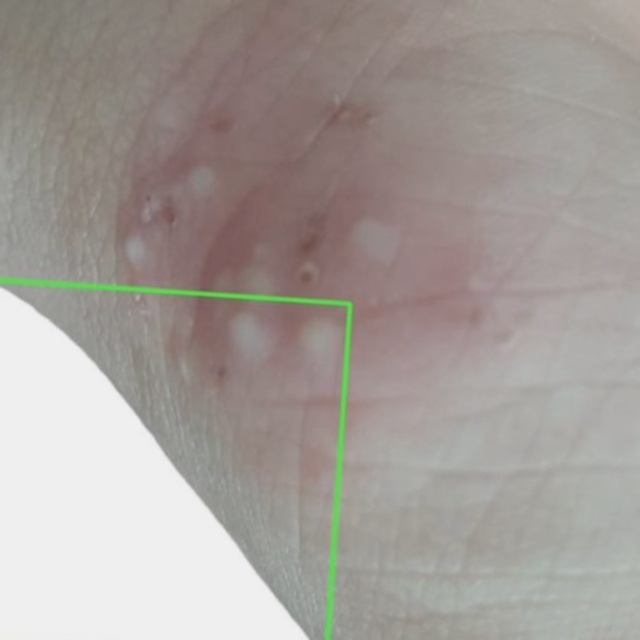Scabies: (0, 280, 349, 639)
